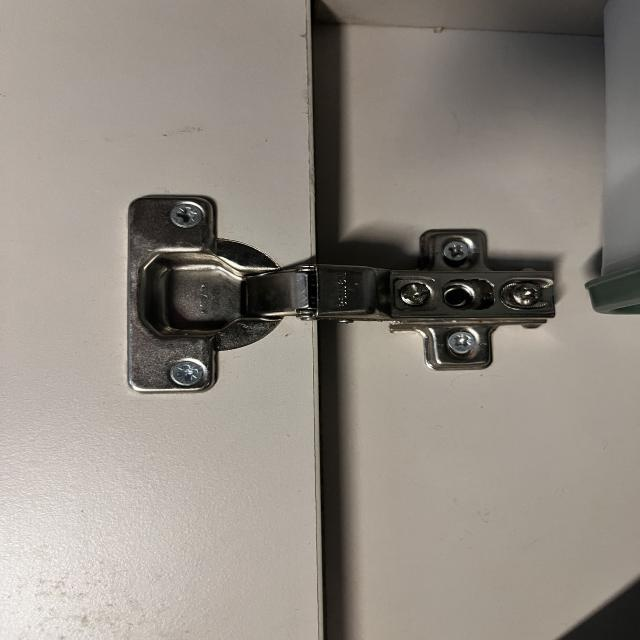pozidriv: (169, 361, 203, 387), (170, 204, 202, 228), (448, 332, 476, 352), (444, 241, 468, 261)
